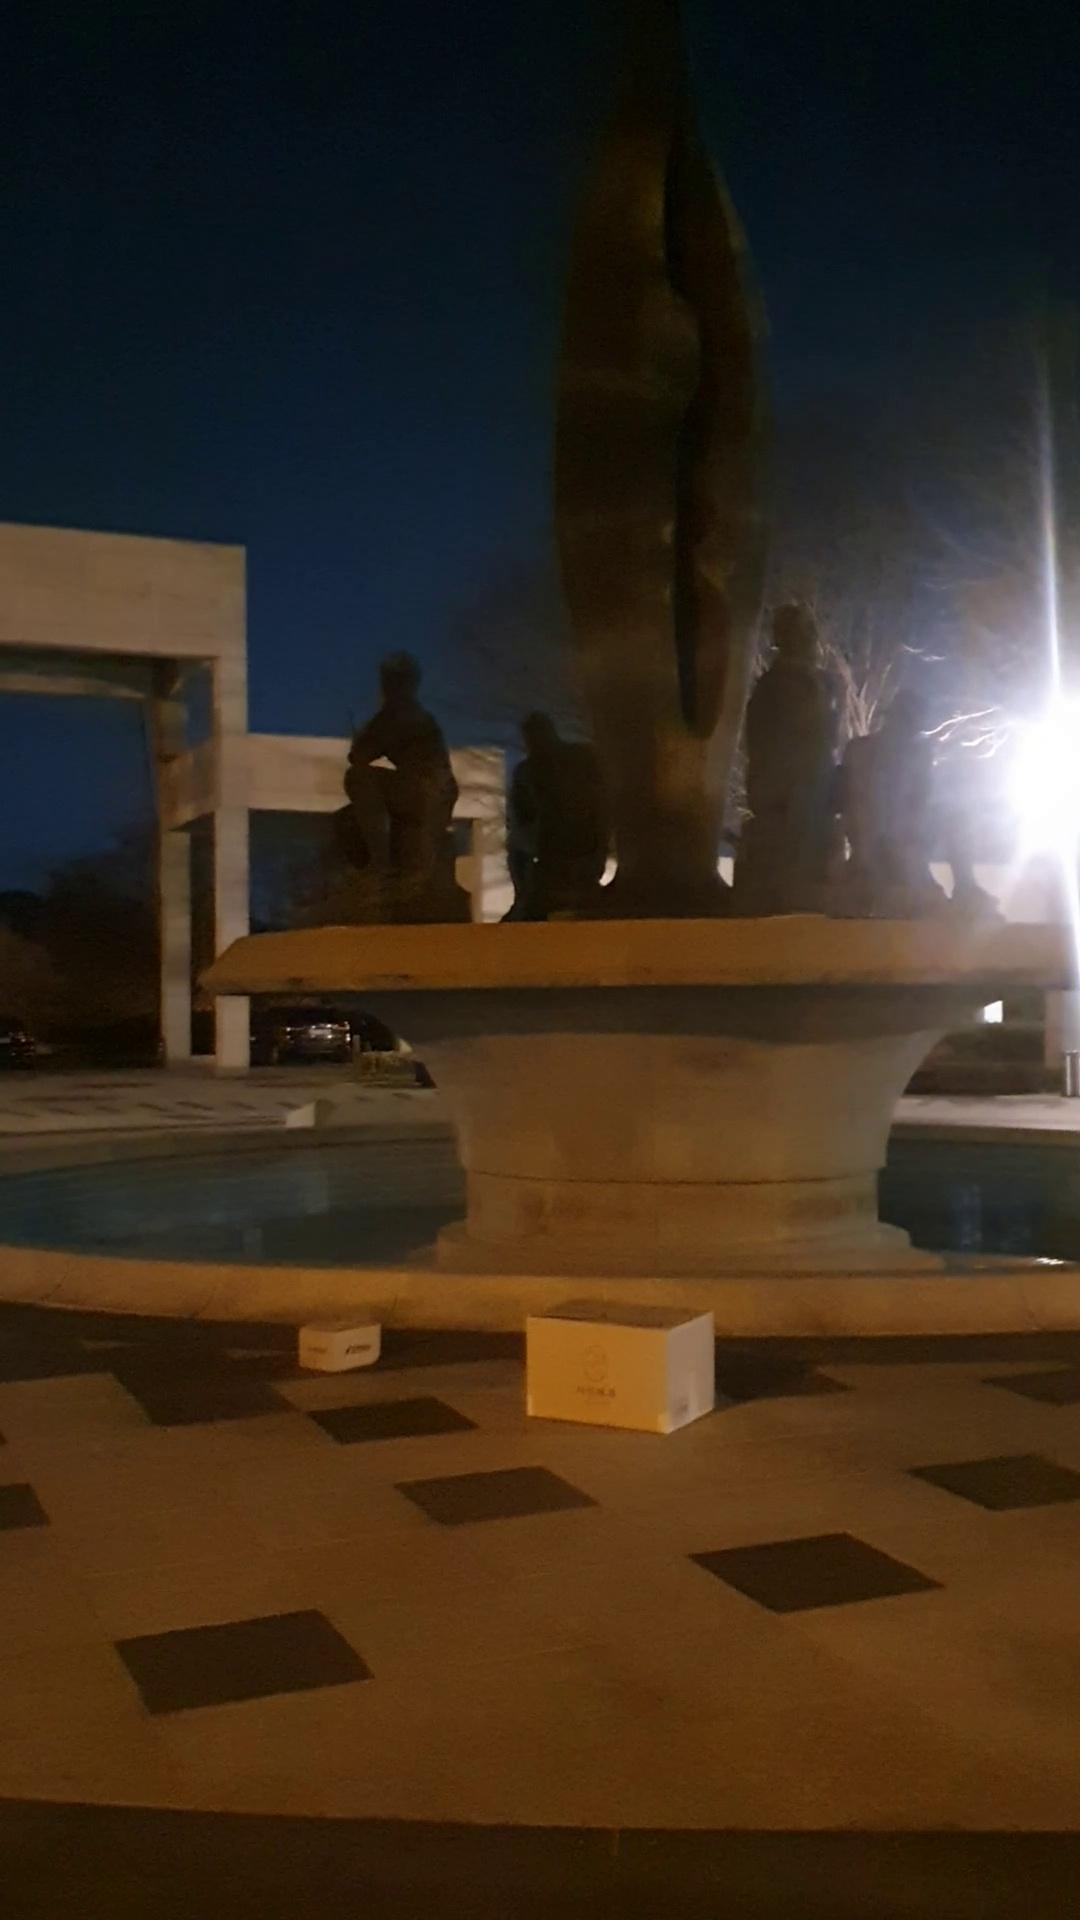Box: (521, 1294, 723, 1437), (295, 1290, 385, 1379)
